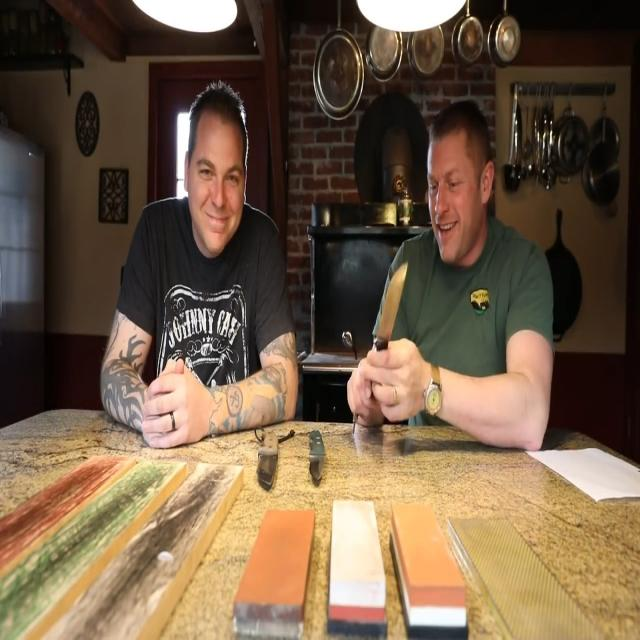knife: (372, 261, 418, 345), (258, 425, 285, 520), (304, 418, 324, 490)
